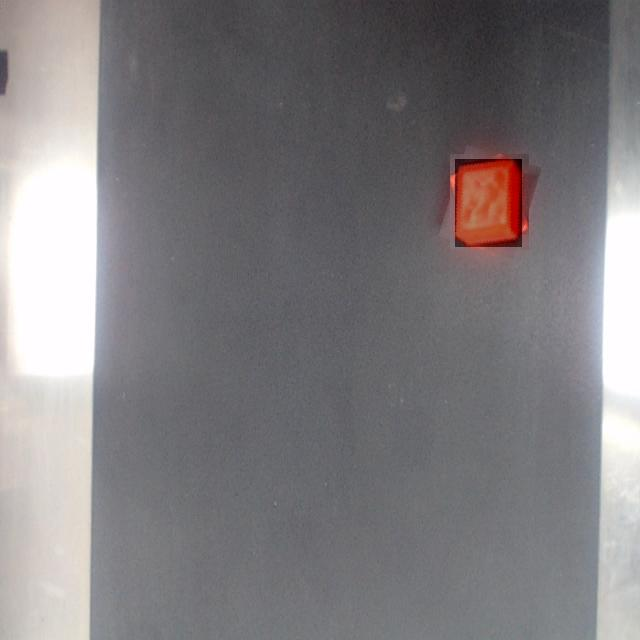Rojo: (456, 159, 522, 247)
